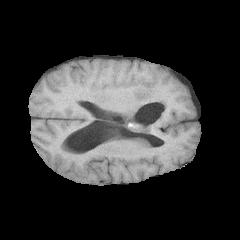glioma: (125, 87, 162, 133)
